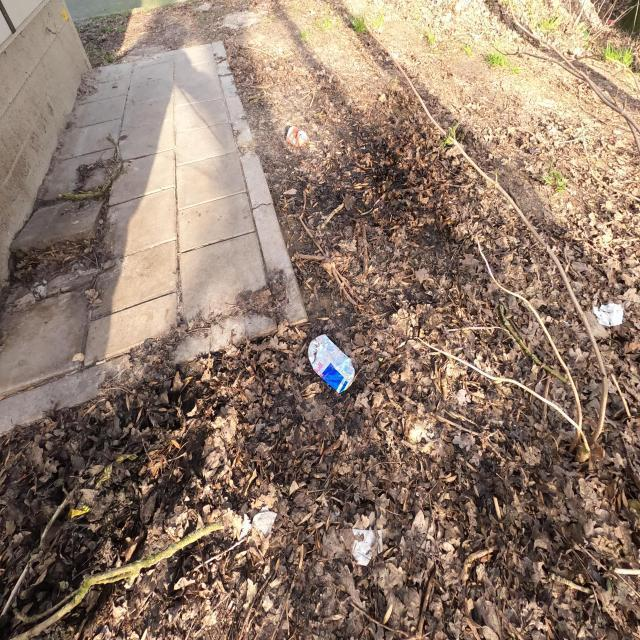Can-Metal: (307, 332, 355, 394), (286, 126, 308, 148)
Paper: (340, 525, 383, 567), (252, 504, 278, 538), (592, 302, 624, 327)
